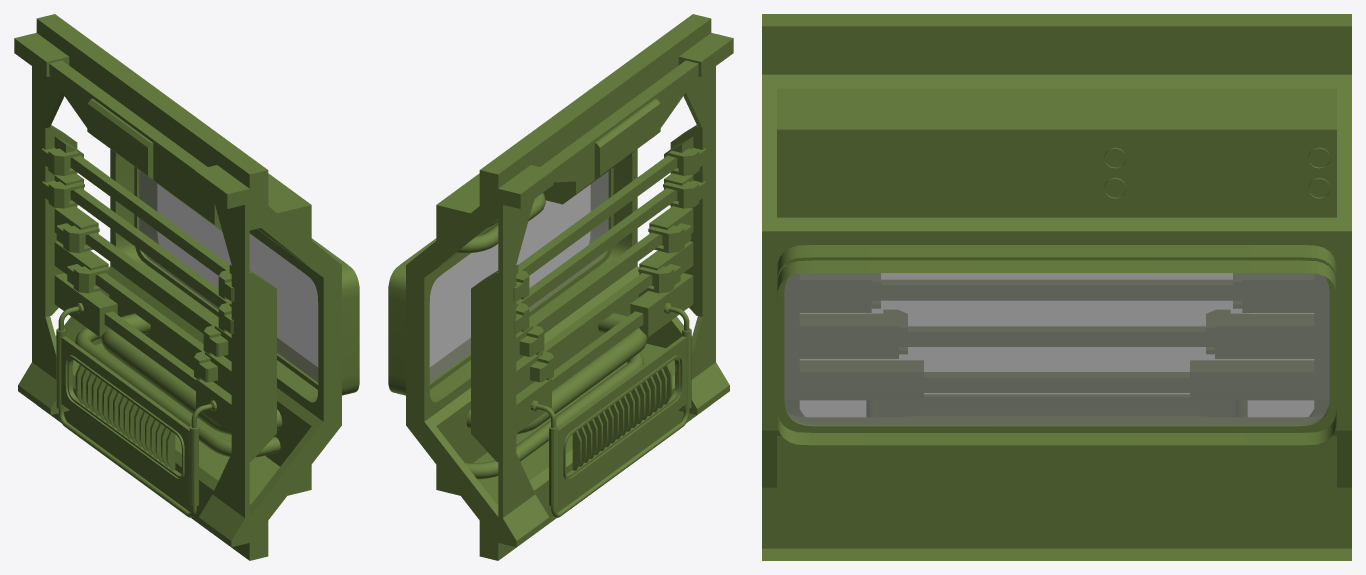
Rendered from Wall_A_4x4m_WinA.FBX.
3 renders of one model, left to right at view 1: azimuth 30°, elevation 25°; view 2: azimuth 150°, elevation 25°; view 3: azimuth 270°, elevation 25°, orthographic. The views are drawn at different scales.
Visible parts, largest first — view 1: Wall_A_4x4m_WinA; view 2: Wall_A_4x4m_WinA; view 3: Wall_A_4x4m_WinA.
Boxes of the visible parts, left/top/right/bottom form: Wall_A_4x4m_WinA: left=14, top=14, right=359, bottom=560; Wall_A_4x4m_WinA: left=388, top=14, right=733, bottom=560; Wall_A_4x4m_WinA: left=762, top=14, right=1351, bottom=560.
Bounding box in the file's own units: 153 × 400 × 400.
